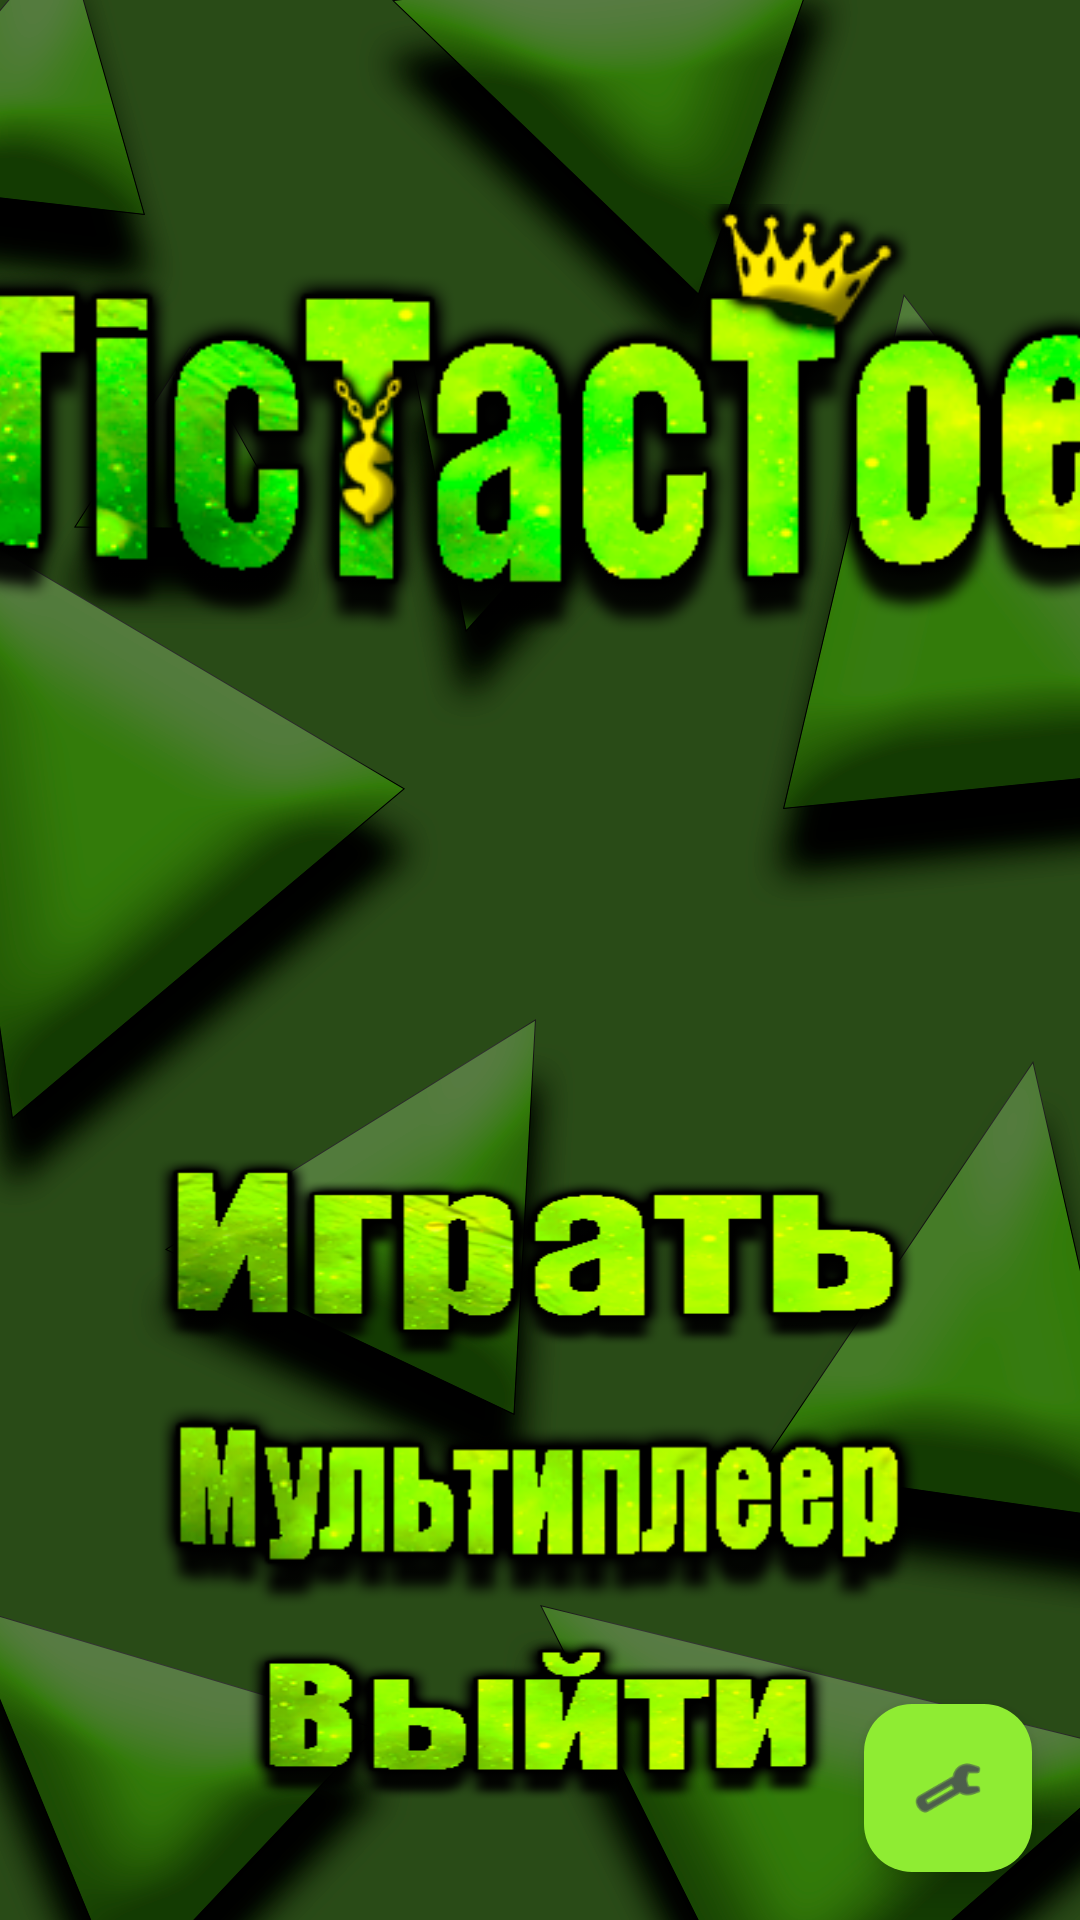

Named icons in this screenshot (1080px x 1920px) and their centers, (x,y):
manage: (948,1788)
